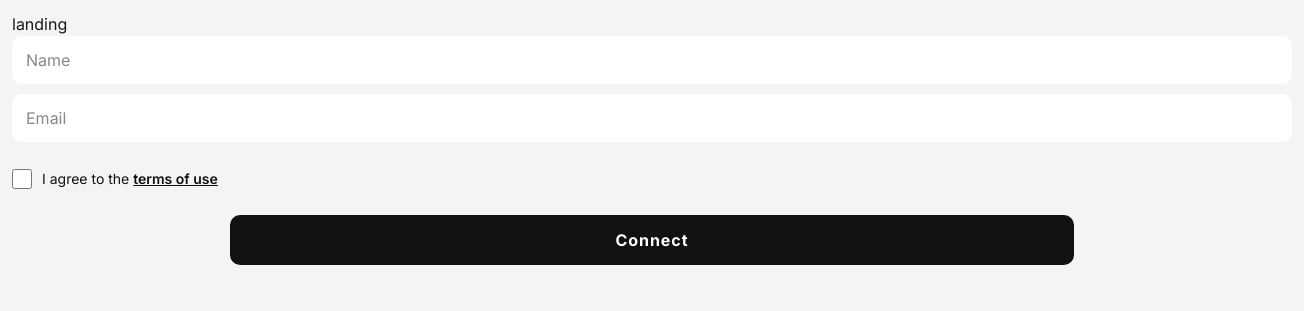
Test case: Form edit-mode Connect › flags the field that actually failed and keeps what was typed
Type "Sam" into the field labelled "Name" at (652, 60), box [12, 36, 1292, 84]
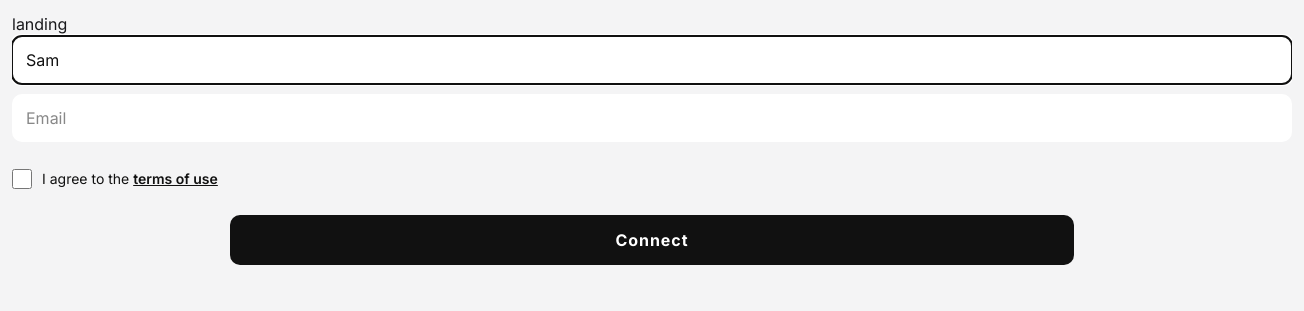
Type "bob@" into the field labelled "Email" at (652, 118), box [12, 94, 1292, 142]
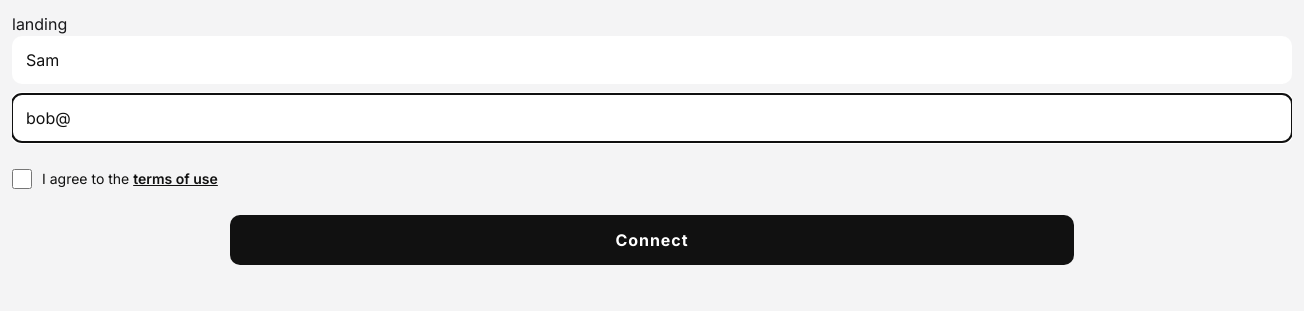
Click the checkbox at (22, 178), box [12, 168, 32, 188]
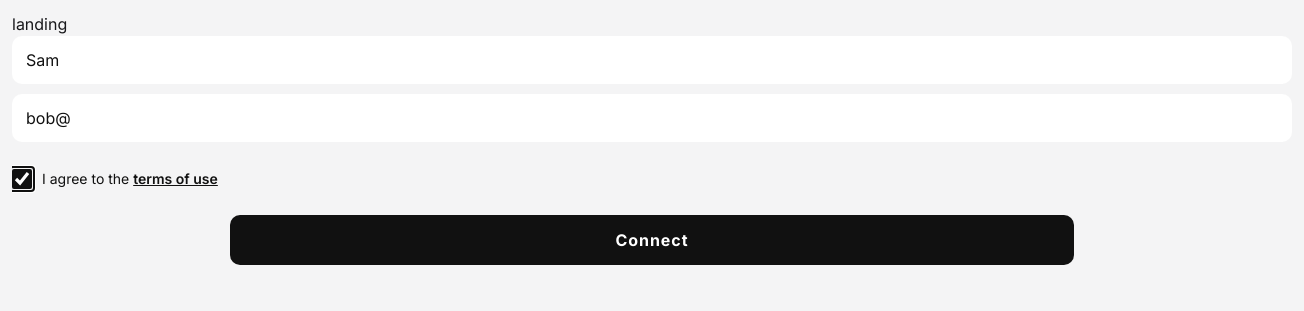
Click the button "Connect" at (652, 240), box [230, 215, 1074, 265]
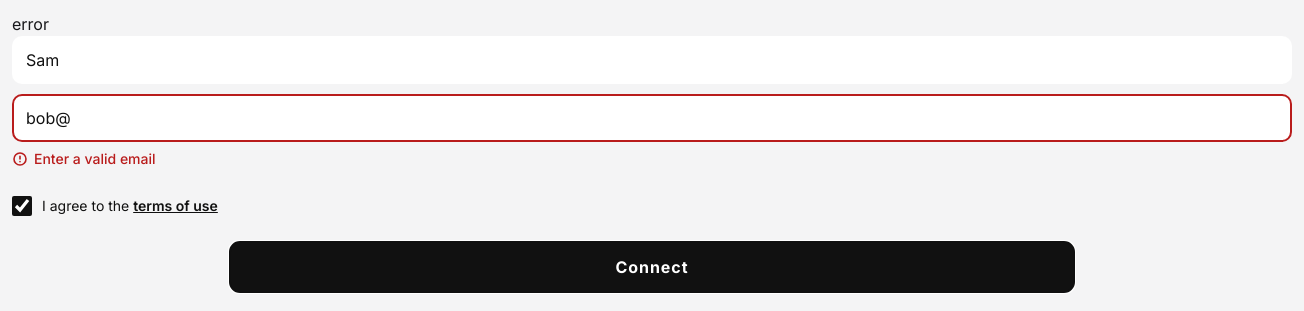
Check: the checkbox is checked, box [12, 196, 32, 216]
Check: the text with test id "screen" reads "error", box [12, 14, 49, 34]
Check: the message reads "Enter a valid email", box [34, 150, 156, 167]
